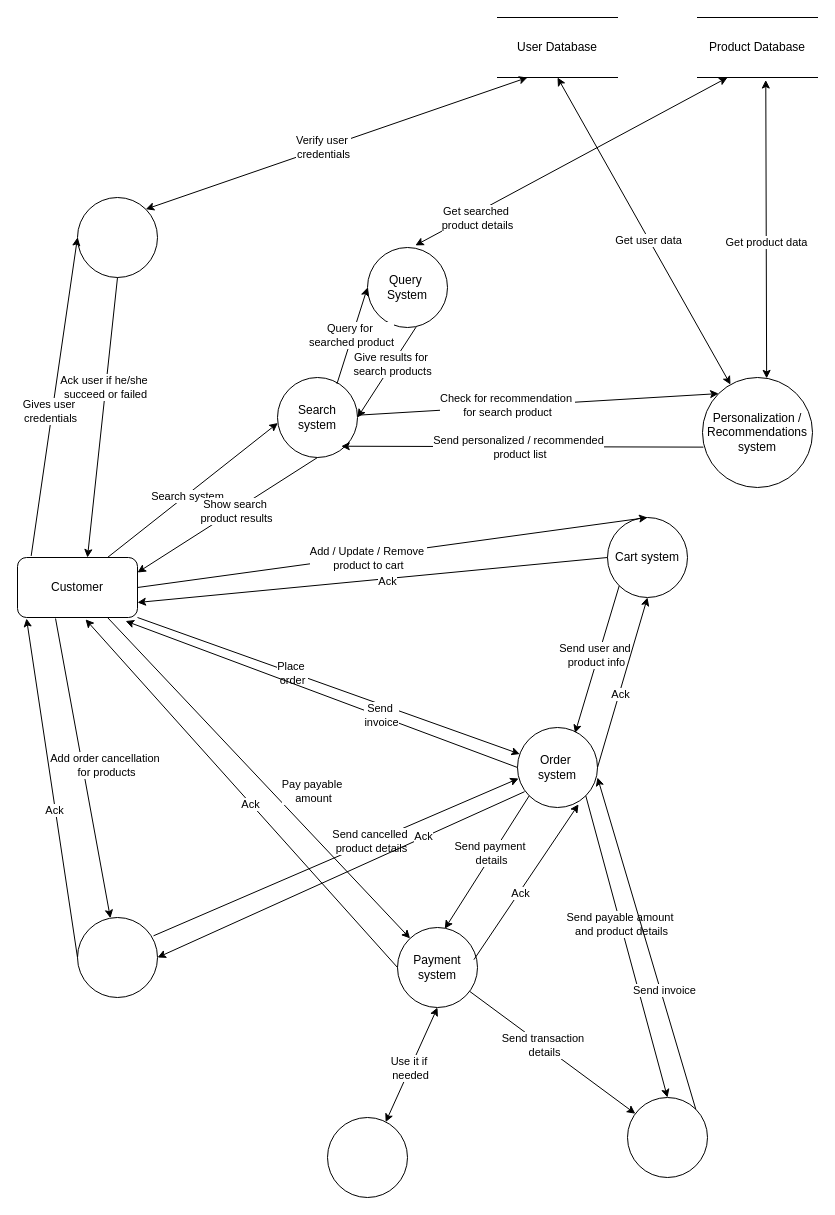
The diagram is 835 pixels wide and 1215 high, and some of its shapes have lost their labels. The centre of each missing label's shape, as x and y in pixels:
"Authentication system" goes at (x=117, y=237).
"Invoice system" goes at (x=667, y=1137).
"Order cancellation system" goes at (x=117, y=957).
"Third party payment system" goes at (x=367, y=1157).
